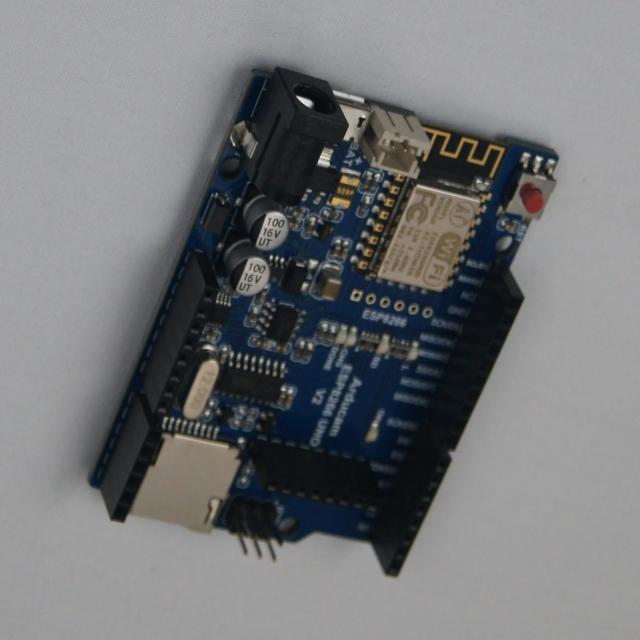Arduino Uno Camera Shield: (92, 68, 559, 576)
